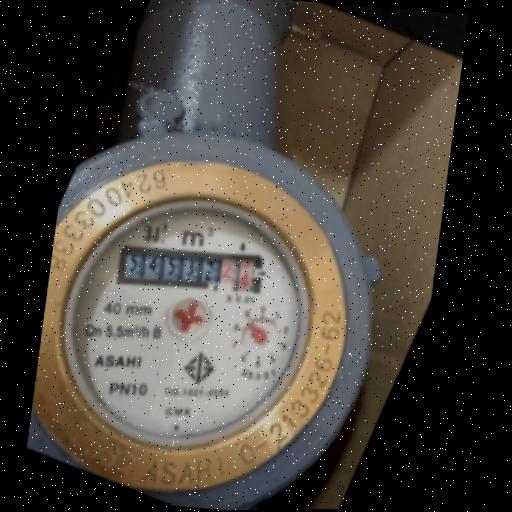2: (221, 260, 236, 284)
3: (182, 257, 199, 281)
4: (237, 259, 254, 290), (144, 255, 161, 279), (202, 260, 218, 283)
5: (124, 253, 141, 278), (163, 256, 180, 280)
border_water_meter_number: (116, 242, 267, 298)
